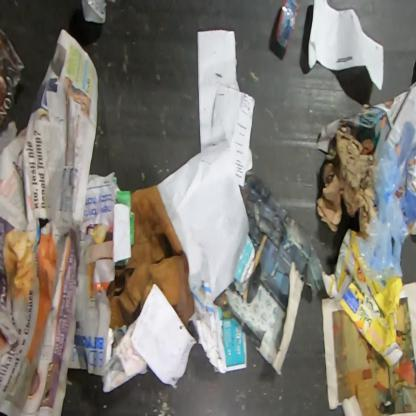cardboard: (321, 228, 405, 367)
rigid_plastic: (274, 0, 303, 53)
soft_plastic: (356, 139, 411, 283)
